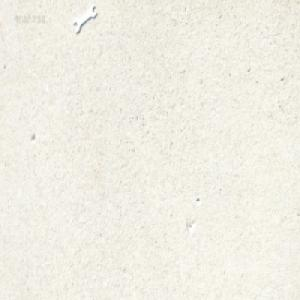Wrench: (73, 10, 96, 38)
